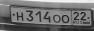license-plateSW: (10, 6, 92, 27)
